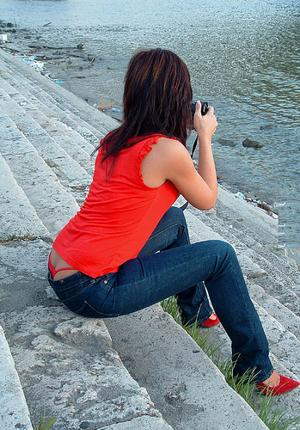person: (49, 47, 300, 393)
